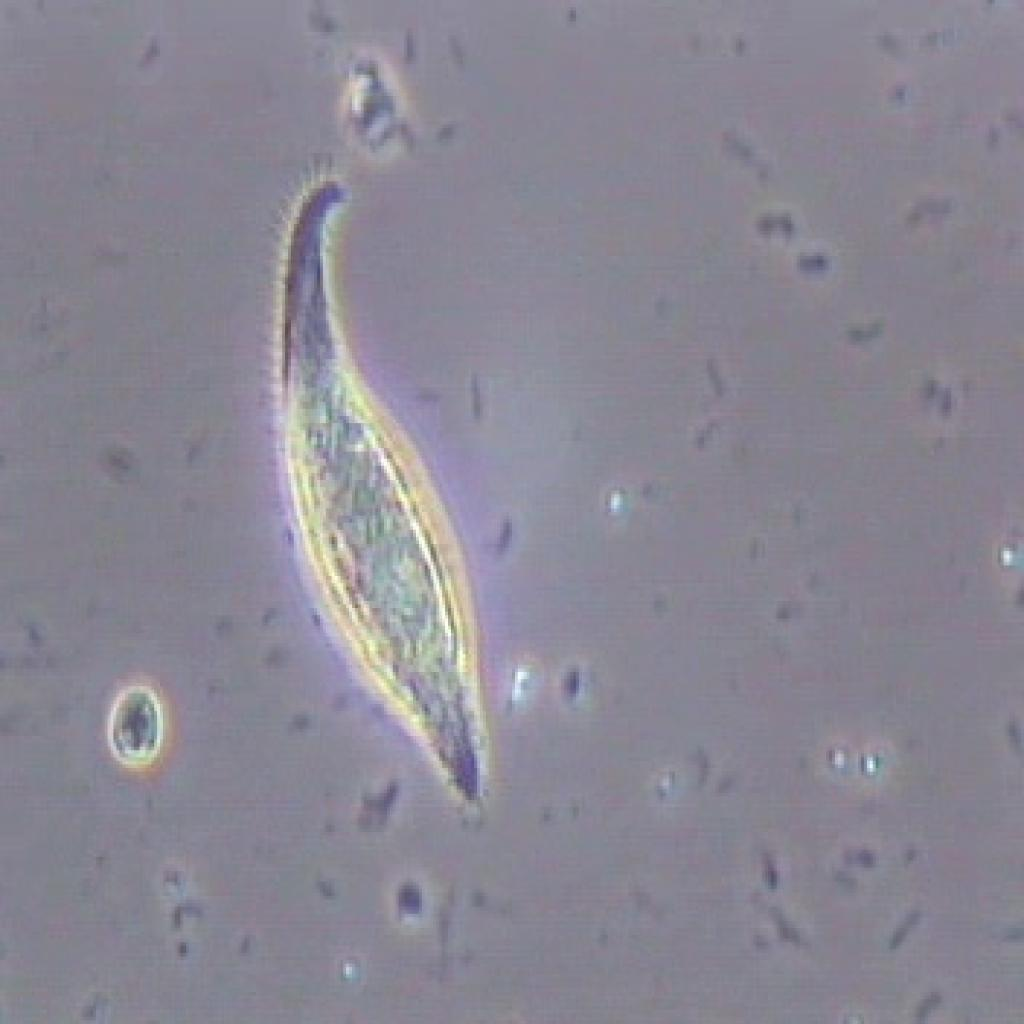Pristina: (247, 162, 544, 834)
